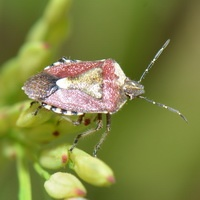insect: (22, 39, 169, 129)
